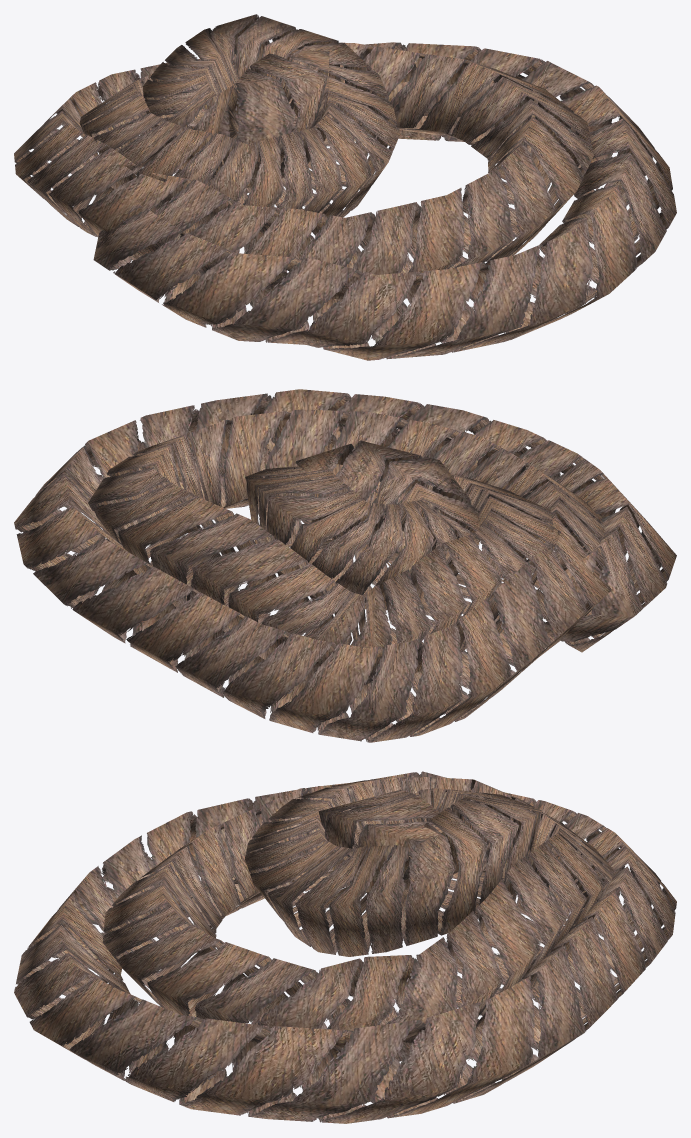
3 renders of one model, top to bottom at view 1: azimuth 30°, elevation 25°; view 2: azimuth 150°, elevation 25°; view 3: azimuth 270°, elevation 25°, orthographic. The views are drawn at different scales.
Parts seen in each view (by area): view 1: SM_DR_Rope_01_LOD0; view 2: SM_DR_Rope_01_LOD0; view 3: SM_DR_Rope_01_LOD0.
Part boxes in pixels (x1,y1,x2,y2): SM_DR_Rope_01_LOD0: (14, 14, 676, 360); SM_DR_Rope_01_LOD0: (14, 389, 676, 742); SM_DR_Rope_01_LOD0: (14, 771, 676, 1123).
Size of the model in its own units: 0.5069 by 0.1626 by 0.5019.
Materials: 1 (1 with a texture image).
